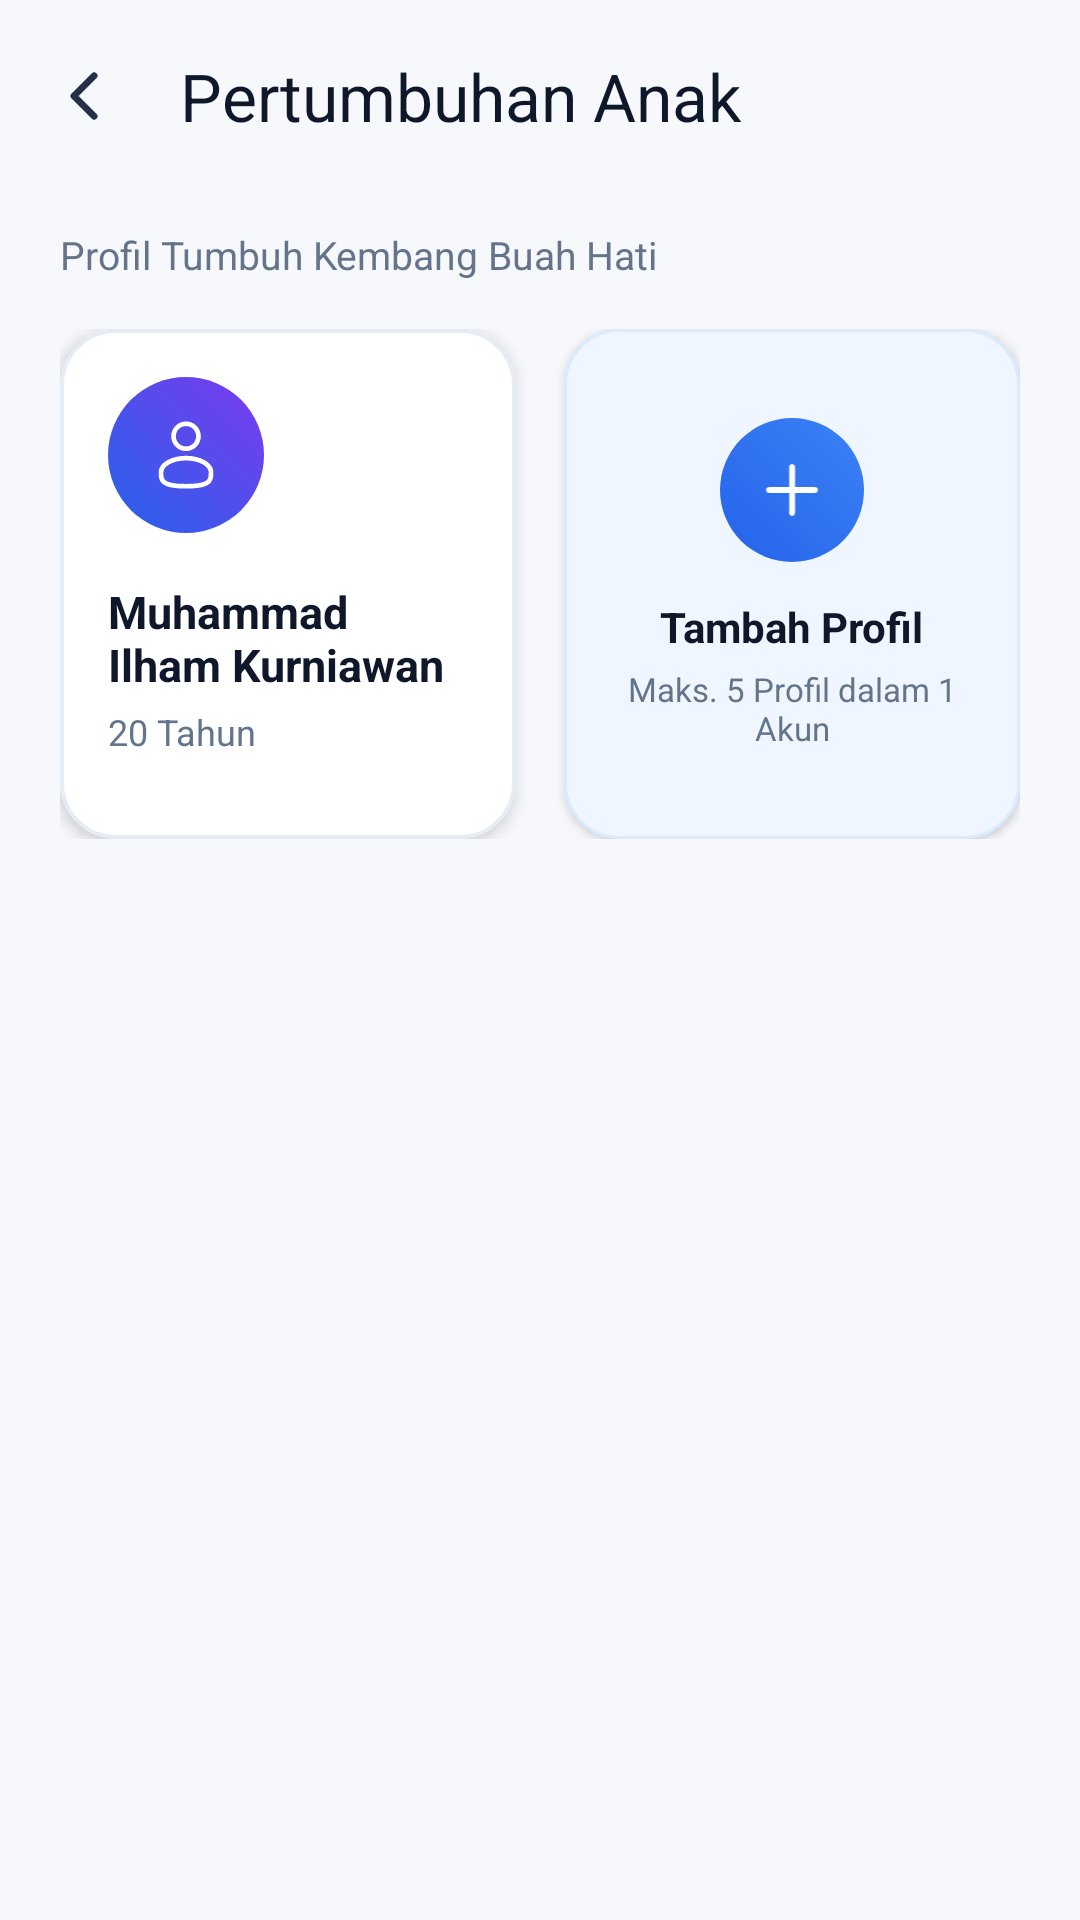

Icons on this 1080px x 1920px Android screen, each with the point to tap as point (x, y):
tambah putih: point (792, 490)
user putih: point (186, 455)
